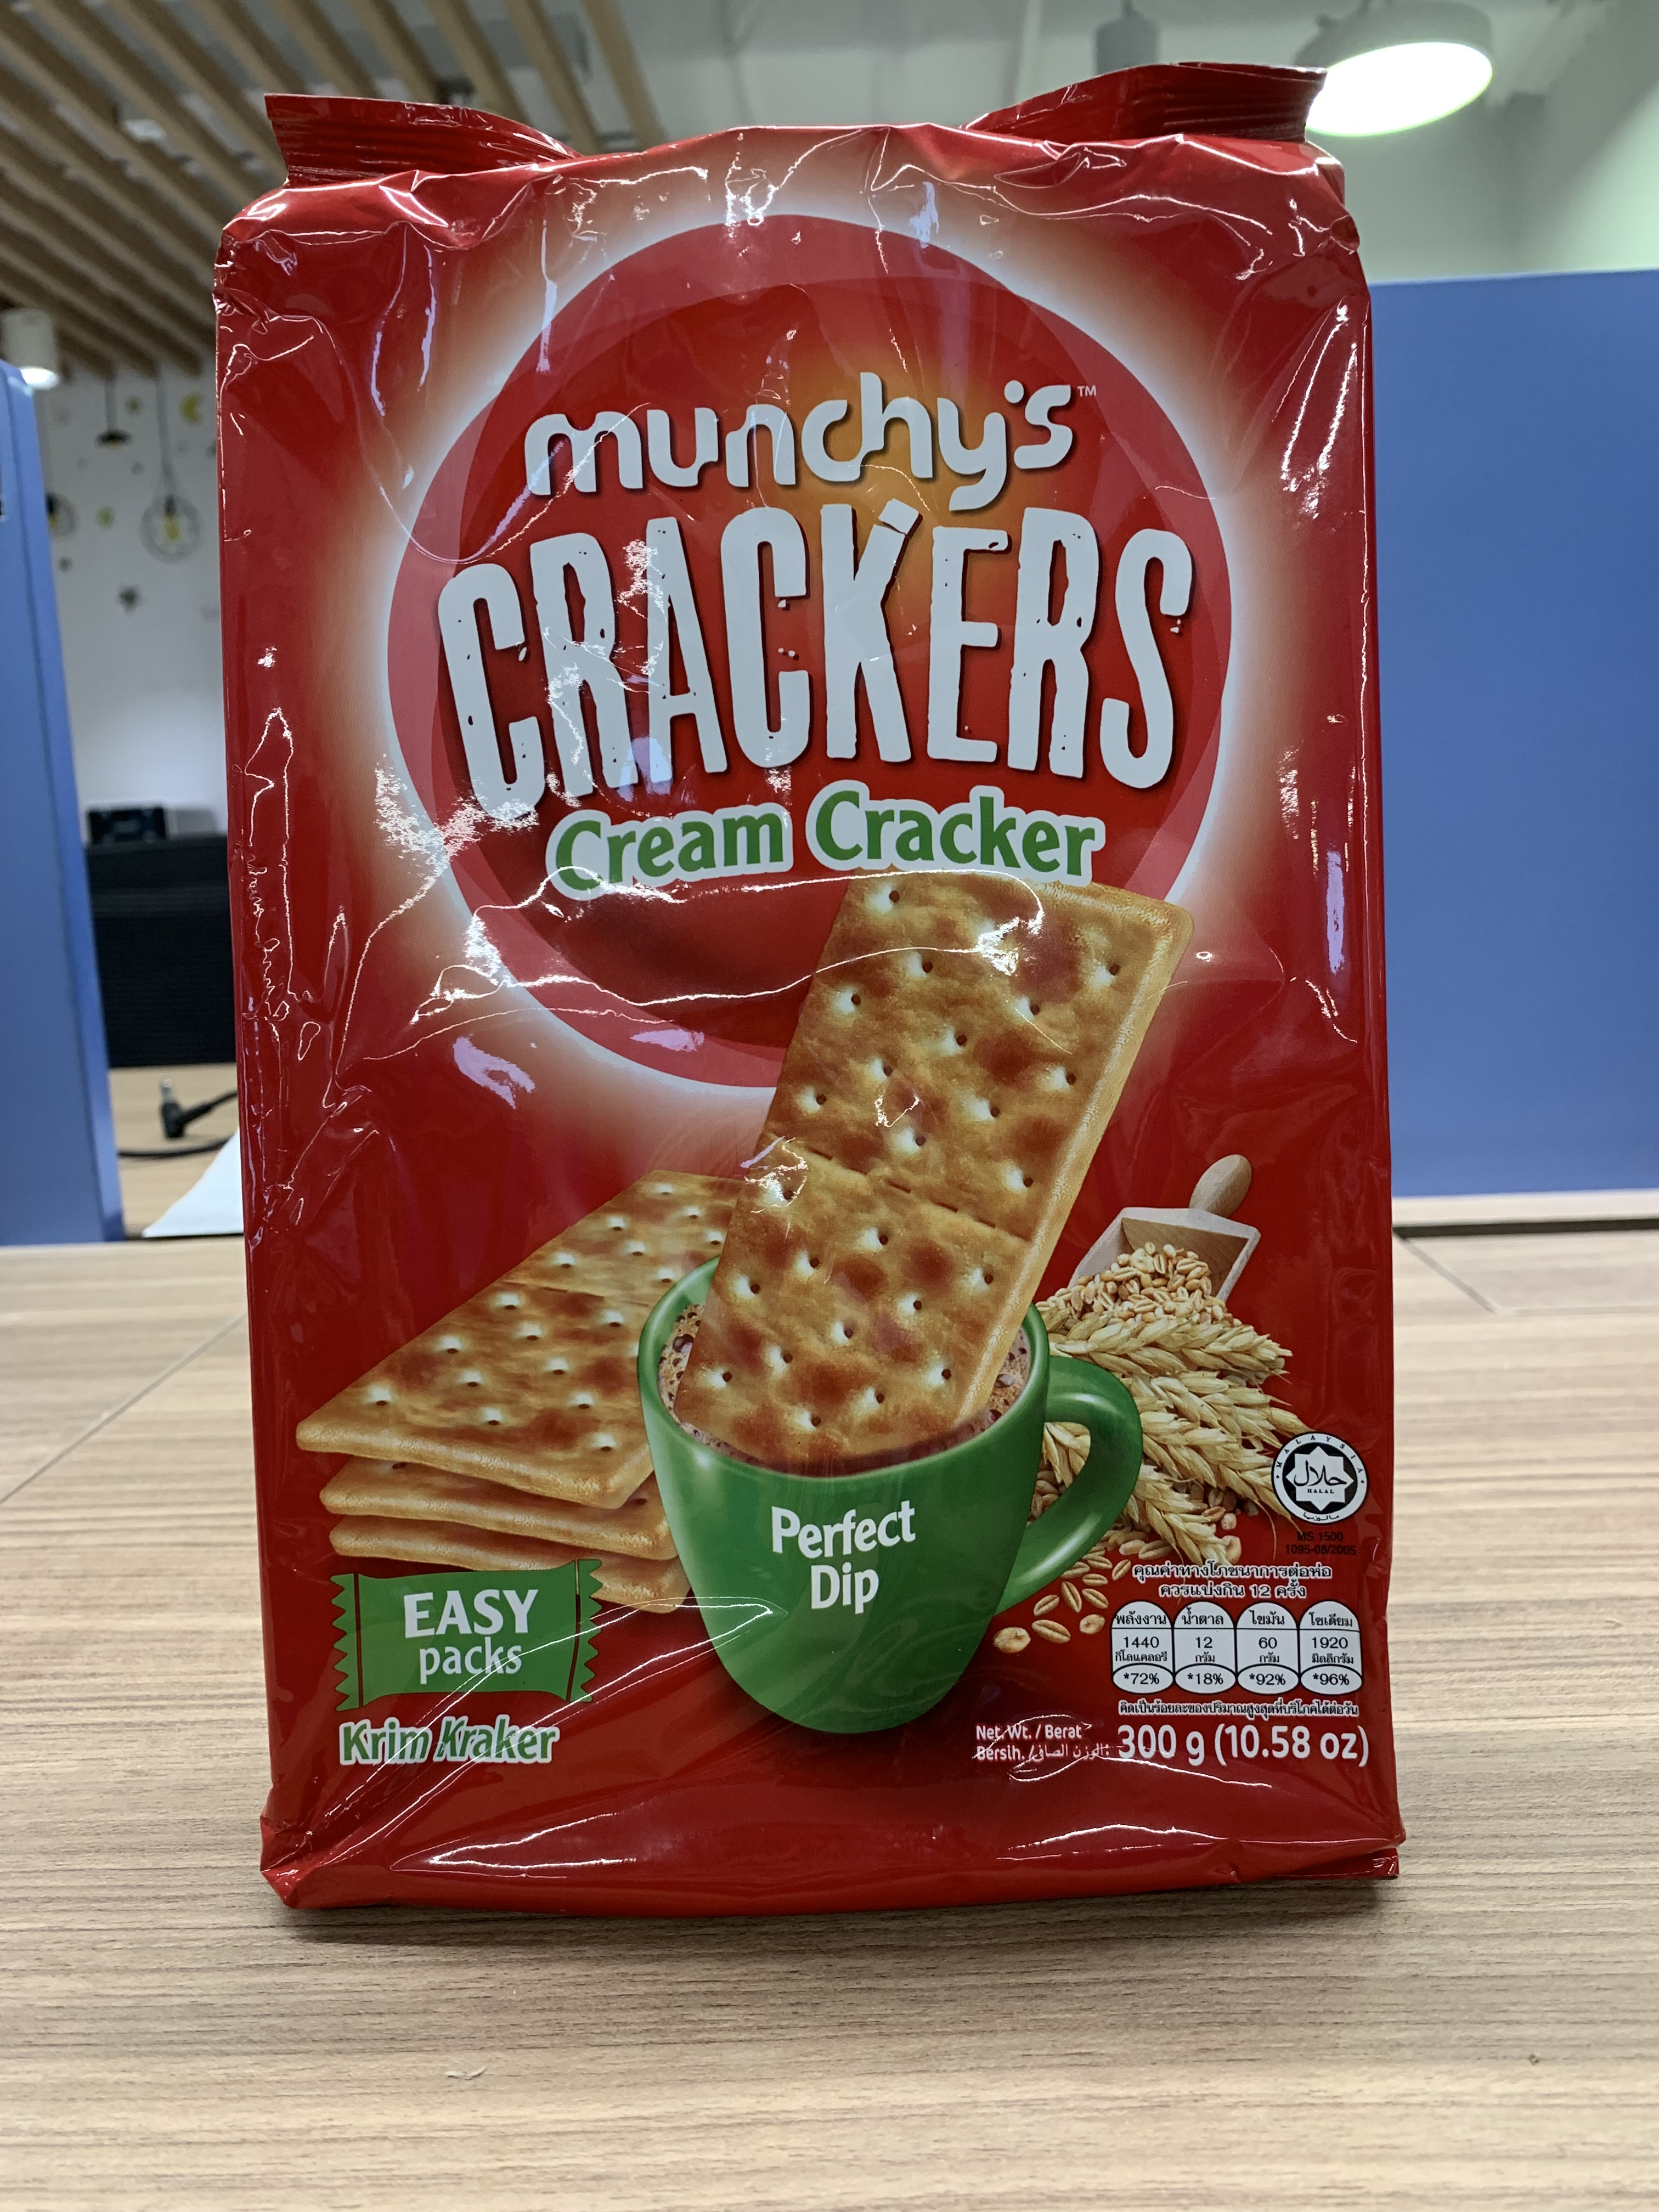crackers_300g-399g: (289, 197, 1394, 1808)
